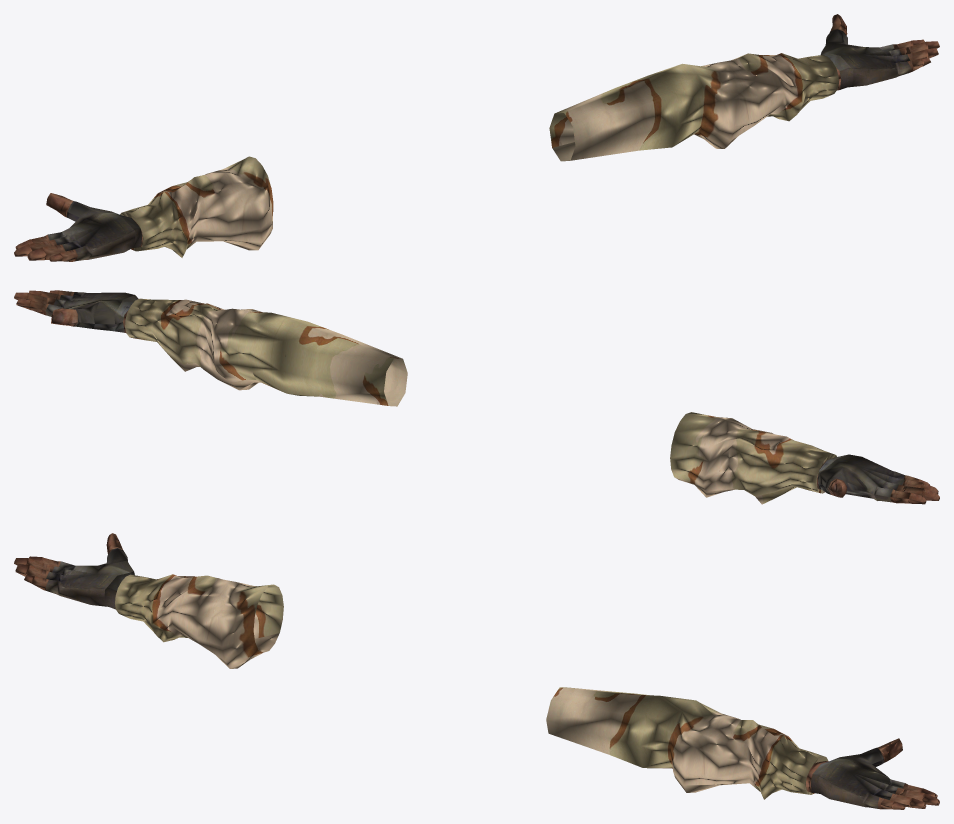
Rendered from arms.glb.
The picture shows the model from 3 angles, top to bottom: view 1: azimuth 30°, elevation 25°; view 2: azimuth 150°, elevation 25°; view 3: azimuth 330°, elevation 25°; orthographic projection.
Visible parts, largest first — view 1: _arms; view 2: _arms; view 3: _arms.
Part boxes in pixels (x1=…): _arms: x1=14, y1=14, x2=939, y2=261; _arms: x1=14, y1=290, x2=939, y2=504; _arms: x1=14, y1=533, x2=939, y2=809.
Size of the model in its own units: 1.9 by 0.1749 by 0.2103.
Materials: 2 (2 with a texture image).
